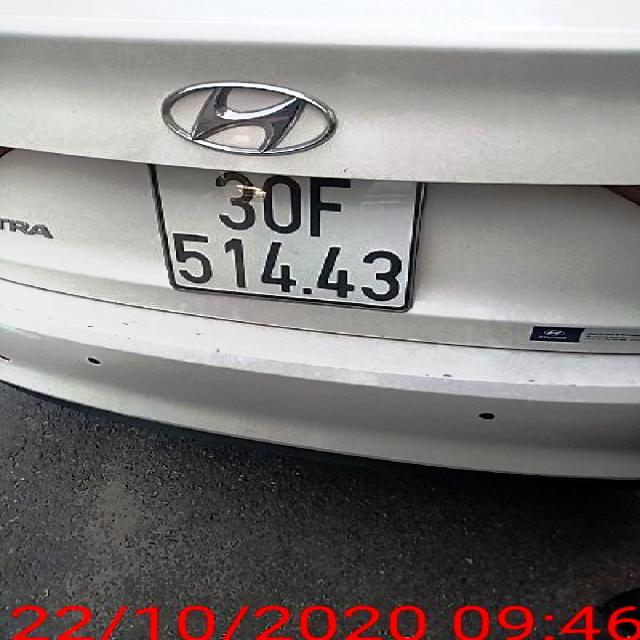license_plate: (152, 164, 430, 310)
